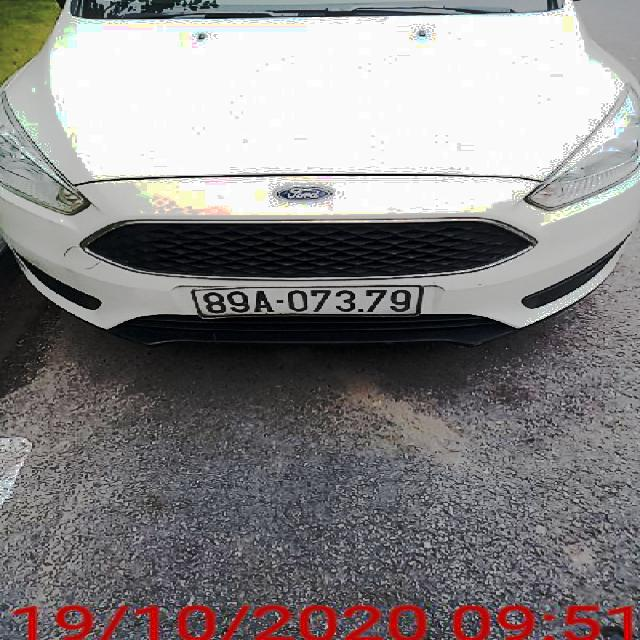license_plate: (193, 288, 420, 320)
